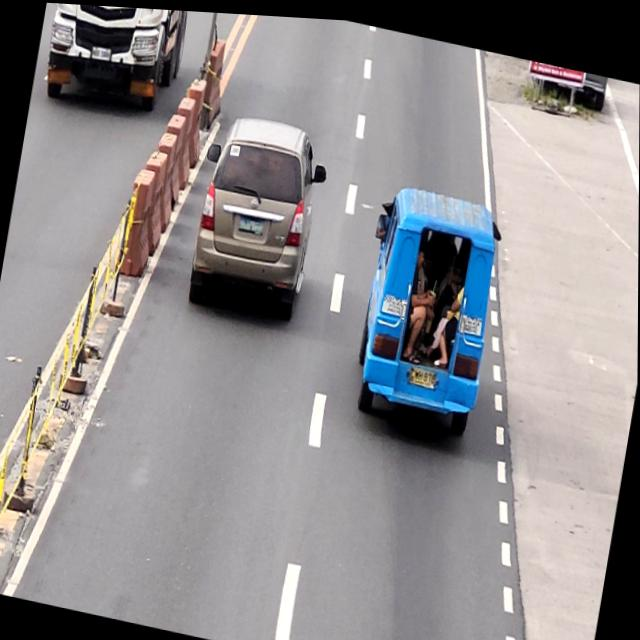Car: (182, 101, 334, 324)
Jeep: (345, 173, 510, 438)
License-Plate: (407, 362, 439, 386), (238, 214, 265, 234)
